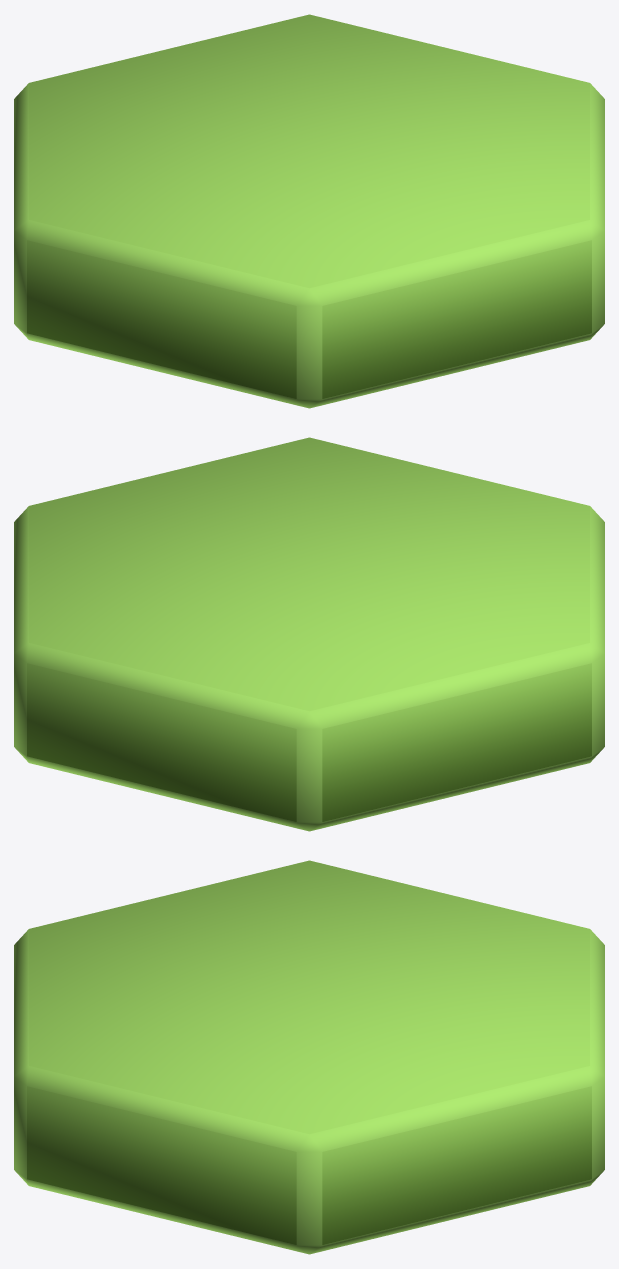
The model's file is bavel_spot_green.fbx.
3 views of the same model, one above another, from view 1: azimuth 30°, elevation 25°; view 2: azimuth 150°, elevation 25°; view 3: azimuth 270°, elevation 25° (orthographic).
Parts seen in each view (by area): view 1: bavel_spot_green; view 2: bavel_spot_green; view 3: bavel_spot_green.
Part boxes in pixels (x1=…): bavel_spot_green: x1=14, y1=14, x2=604, y2=408; bavel_spot_green: x1=14, y1=437, x2=604, y2=831; bavel_spot_green: x1=14, y1=860, x2=604, y2=1254.
Size of the model in its own units: 358 by 71.12 by 317.
1 material, 1 textured.
